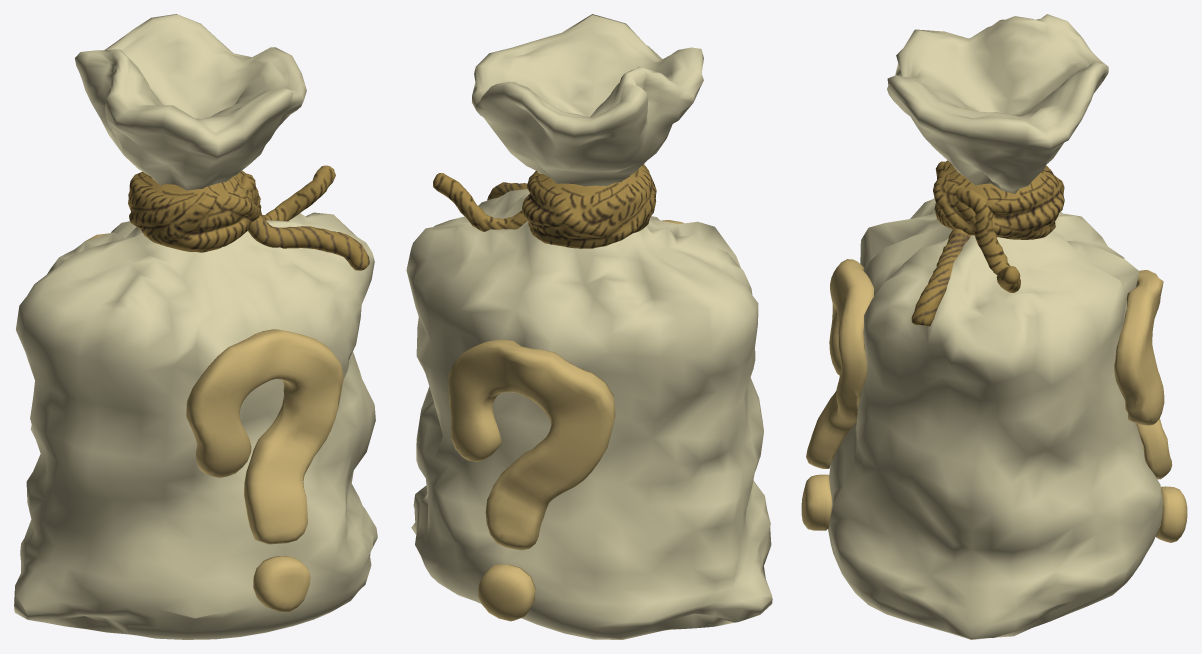
The model's file is Item_bag_rev02_FBX_LowPoly_rev01_YELLOW.fbx.
The picture shows the model from 3 angles, left to right: view 1: azimuth 30°, elevation 25°; view 2: azimuth 150°, elevation 25°; view 3: azimuth 270°, elevation 25°; orthographic projection. The views are drawn at different scales.
Parts seen in each view (by area): view 1: Item_bag_bag, Item_bag_top, Item_bag_Question_A, Item_bag_StringC, Item_bag_stringB, Item_bag_Question_A_dot, Item_bag_stringA; view 2: Item_bag_bag, Item_bag_top, Item_bag_Question_B, Item_bag_StringC, Item_bag_Question_B_dot, Item_bag_stringA; view 3: Item_bag_bag, Item_bag_top, Item_bag_Question_A, Item_bag_Question_B, Item_bag_StringC, Item_bag_stringA, Item_bag_stringB, Item_bag_Question_A_dot, Item_bag_Question_B_dot.
Boxes of the visible parts, x1,y1,x2,y2 form: Item_bag_bag: (14, 212, 377, 639); Item_bag_top: (75, 14, 306, 190); Item_bag_Question_A: (186, 329, 343, 544); Item_bag_StringC: (128, 170, 259, 252); Item_bag_stringB: (248, 215, 369, 270); Item_bag_Question_A_dot: (253, 556, 310, 611); Item_bag_stringA: (241, 165, 335, 221); Item_bag_bag: (406, 189, 772, 639); Item_bag_top: (471, 14, 703, 186); Item_bag_Question_B: (448, 339, 615, 550); Item_bag_StringC: (521, 164, 656, 248); Item_bag_Question_B_dot: (478, 564, 535, 621); Item_bag_stringA: (433, 173, 528, 231); Item_bag_bag: (828, 198, 1162, 639); Item_bag_top: (887, 14, 1108, 193); Item_bag_Question_A: (806, 259, 873, 468); Item_bag_Question_B: (1114, 270, 1172, 479); Item_bag_StringC: (933, 160, 1064, 239); Item_bag_stringA: (955, 188, 1020, 292); Item_bag_stringB: (911, 228, 970, 326); Item_bag_Question_A_dot: (801, 474, 832, 530); Item_bag_Question_B_dot: (1155, 486, 1187, 542).
Bounding box in the file's own units: 16.23 × 23.64 × 15.91.
3 materials, 3 textured.
